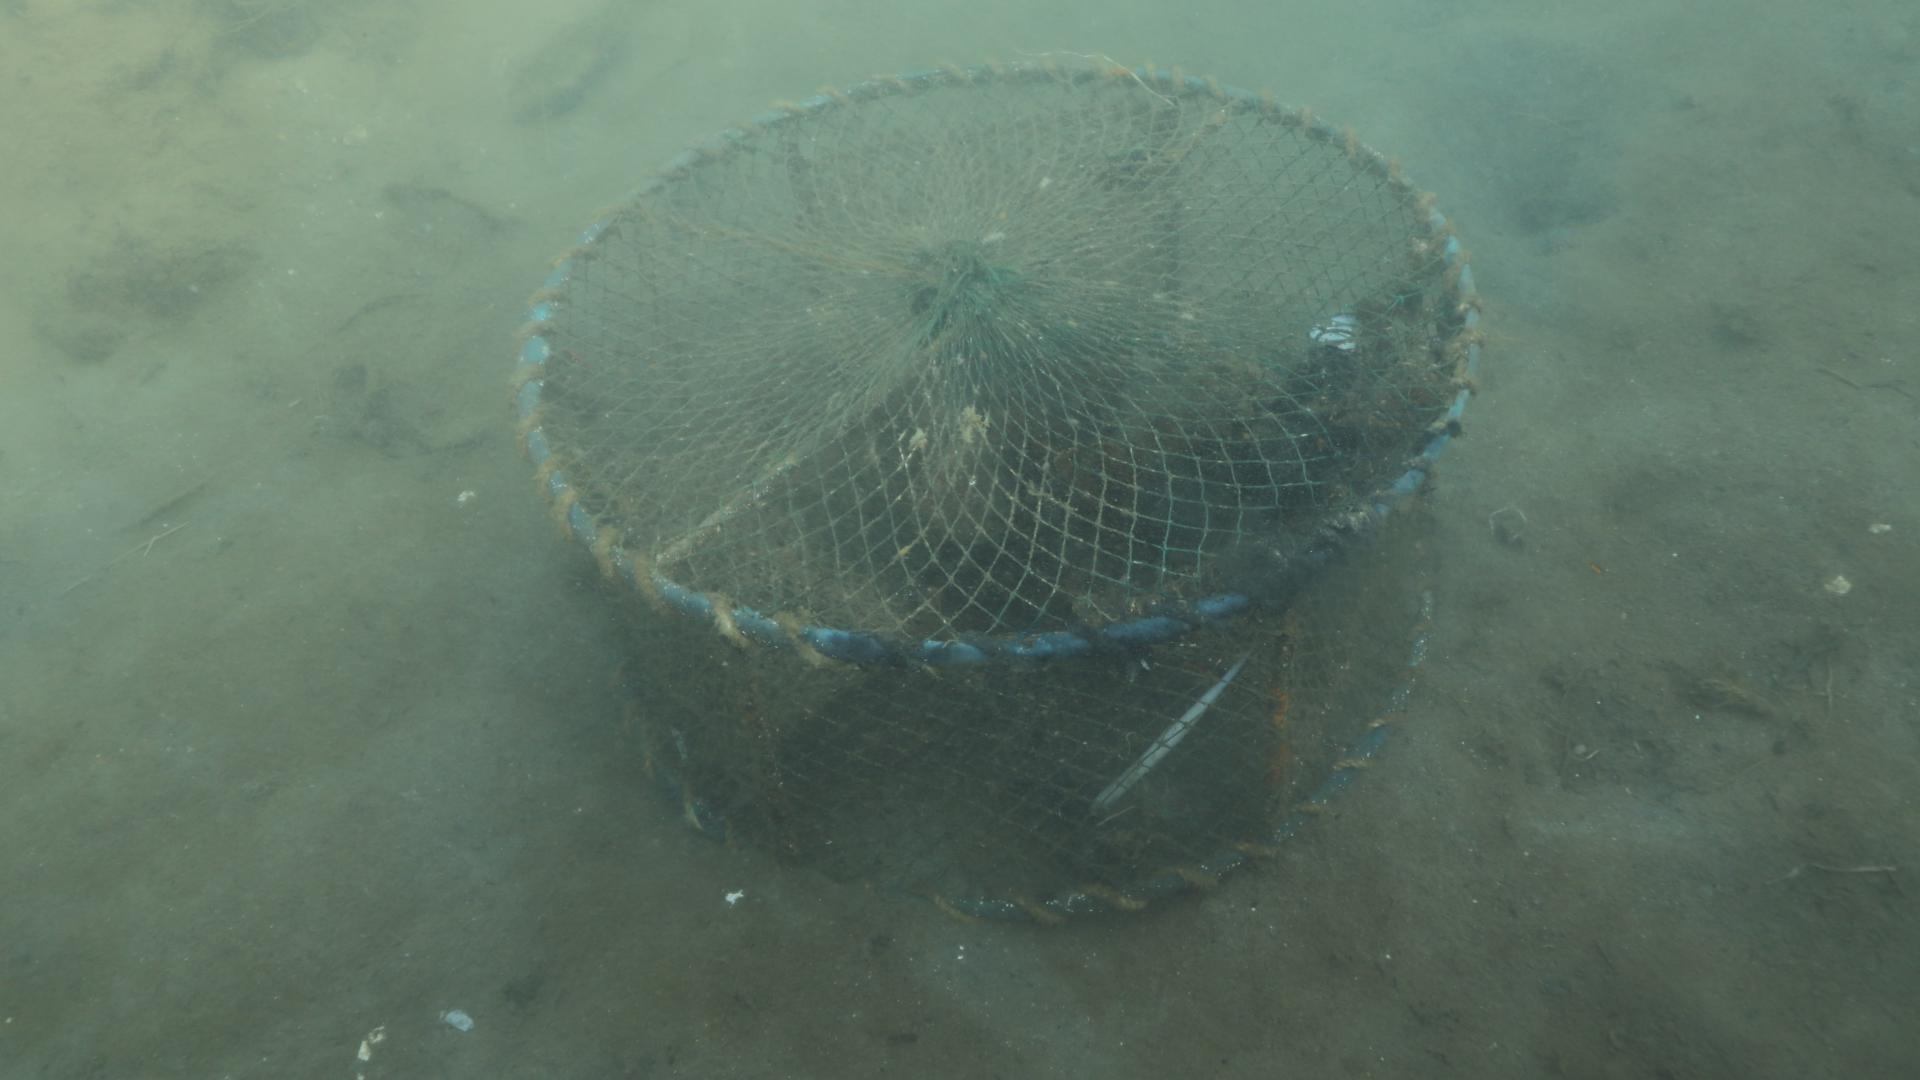circular fish trap: (506, 51, 1486, 923)
